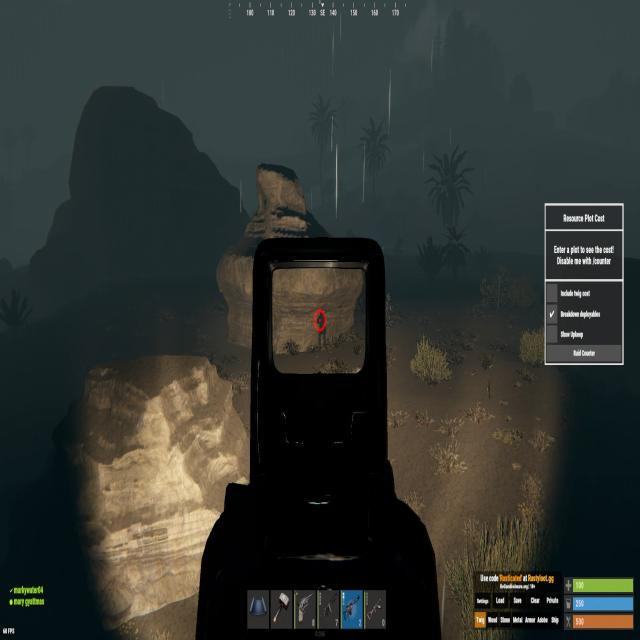Player: (318, 307, 326, 352)
